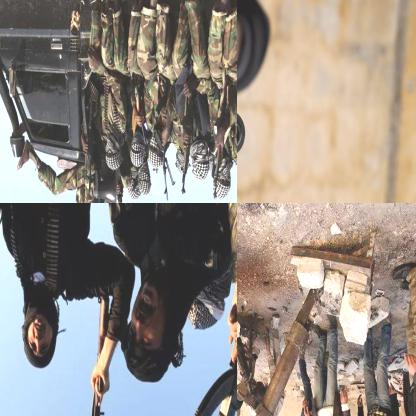rifle: (184, 290, 236, 415), (79, 293, 109, 415), (207, 84, 232, 196), (174, 84, 199, 196)
